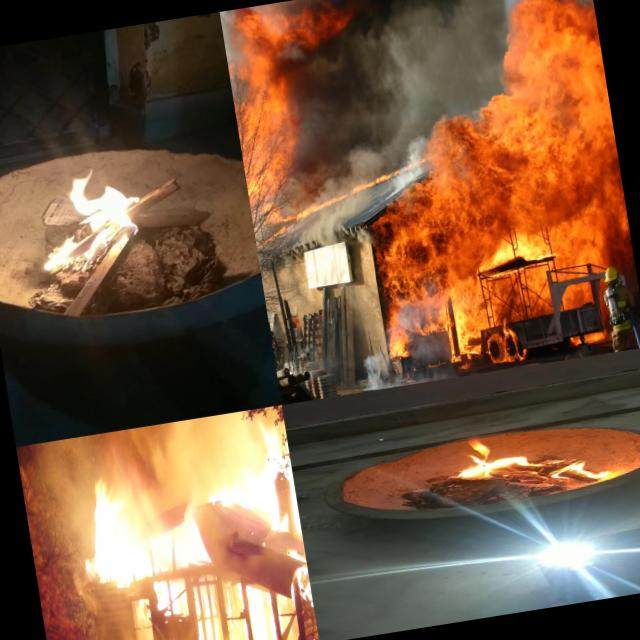fire: (358, 93, 640, 340), (67, 421, 319, 640), (450, 418, 612, 506), (229, 62, 310, 235), (490, 0, 608, 110), (221, 0, 347, 69), (54, 158, 118, 288), (304, 180, 384, 220), (481, 319, 532, 368)
smoke: (337, 0, 506, 131), (286, 46, 426, 184), (360, 334, 460, 392), (294, 203, 369, 250)
